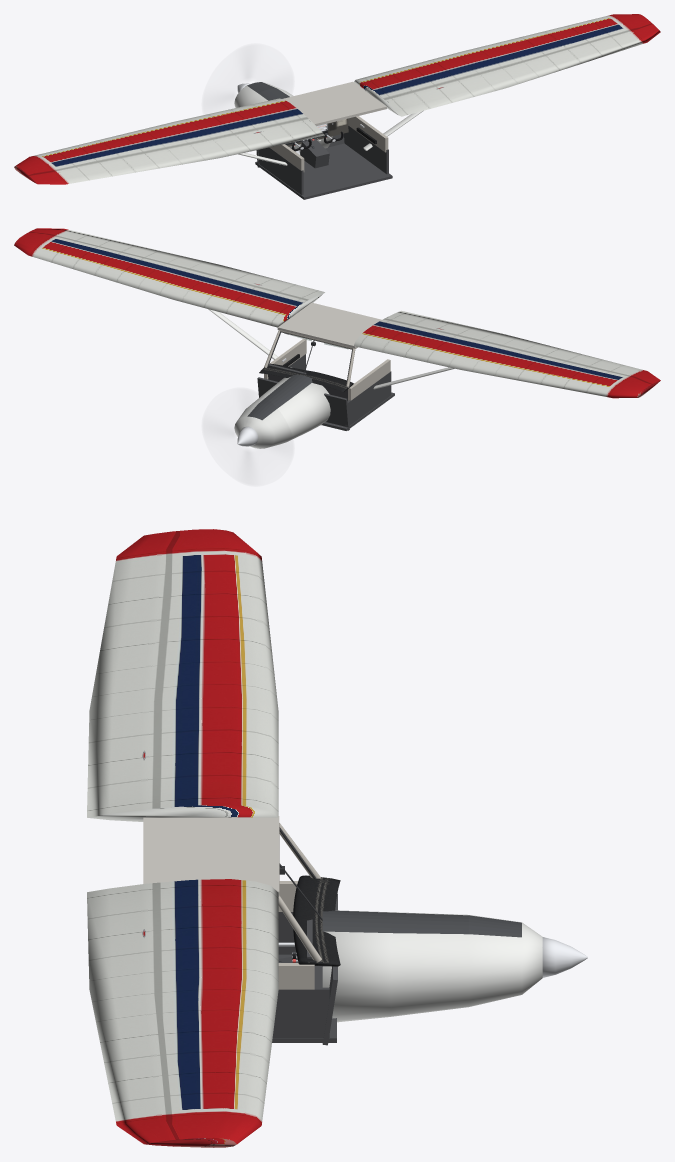
The model's file is instruments.glb.
3 renders of one model, top to bottom at view 1: azimuth 30°, elevation 25°; view 2: azimuth 150°, elevation 25°; view 3: azimuth 270°, elevation 25°, orthographic. The views are drawn at different scales.
Visible parts, largest first — view 1: CockpitShell, PanelStatic; view 2: CockpitShell; view 3: CockpitShell.
Boxes of the visible parts, x1,y1,x2,y2 form: CockpitShell: (14, 14, 660, 199); PanelStatic: (285, 118, 348, 146); CockpitShell: (14, 228, 660, 448); CockpitShell: (87, 529, 587, 1147).
Bounding box in the file's own units: 11.12 × 1.96 × 3.87.
22 materials, 8 textured.
